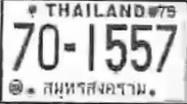0: (37, 22, 59, 70)
1: (88, 23, 94, 71)
5: (104, 23, 127, 72), (130, 23, 152, 71)
7: (154, 23, 176, 72), (12, 21, 34, 70)
SKM: (39, 77, 147, 100)
